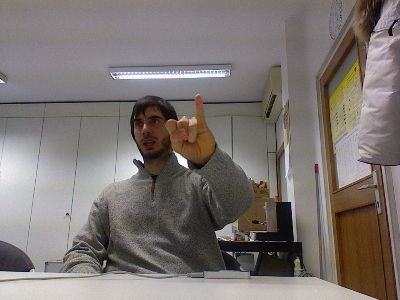小指: (164, 94, 216, 163)
